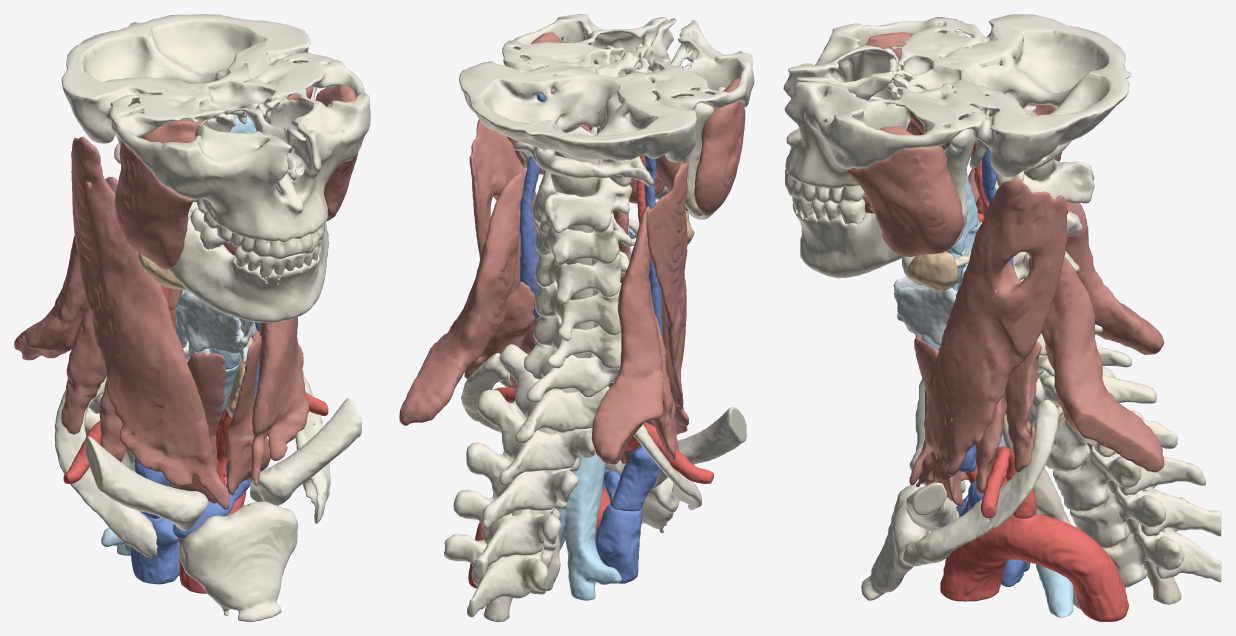
The model's file is headneck.glb.
3 renders of one model, left to right at view 1: azimuth 30°, elevation 25°; view 2: azimuth 150°, elevation 25°; view 3: azimuth 270°, elevation 25°, orthographic. The views are drawn at different scales.
Visible parts, largest first — view 1: skull, sternocleidomastoid_right, sternum, mandible, sternocleidomastoid_left, masseter_right, clavicula_right, clavicula_left, rib_right_1, levator_scapulae_right, middle_scalene_right, thyroid_cartilage (+16 smaller); view 2: skull, levator_scapulae_left, levator_scapulae_right, sternocleidomastoid_right, trachea, vertebrae_T2, vertebrae_T3, vertebrae_T4, masseter_right, vertebrae_T5, vertebrae_T1, sternocleidomastoid_left (+22 smaller); view 3: skull, sternocleidomastoid_left, aorta, levator_scapulae_left, masseter_left, mandible, rib_left_1, vertebrae_T4, vertebrae_T3, vertebrae_T5, levator_scapulae_right, sternum (+21 smaller).
Boxes of the visible parts, left/top/right/bottom form: skull: left=61, top=14, right=370, bottom=242; sternocleidomastoid_right: left=71, top=136, right=229, bottom=509; sternum: left=178, top=501, right=298, bottom=621; mandible: left=111, top=62, right=330, bottom=322; sternocleidomastoid_left: left=251, top=317, right=309, bottom=485; masseter_right: left=114, top=137, right=193, bottom=269; clavicula_right: left=85, top=436, right=208, bottom=530; clavicula_left: left=250, top=398, right=361, bottom=505; rib_right_1: left=54, top=376, right=157, bottom=558; levator_scapulae_right: left=14, top=176, right=118, bottom=360; middle_scalene_right: left=61, top=305, right=106, bottom=434; thyroid_cartilage: left=175, top=291, right=256, bottom=353; skull: left=459, top=14, right=754, bottom=162; levator_scapulae_left: left=399, top=172, right=523, bottom=425; levator_scapulae_right: left=591, top=206, right=664, bottom=464; sternocleidomastoid_right: left=646, top=162, right=688, bottom=434; trachea: left=555, top=451, right=621, bottom=600; vertebrae_T2: left=477, top=389, right=595, bottom=486; vertebrae_T3: left=466, top=442, right=578, bottom=528; vertebrae_T4: left=453, top=489, right=561, bottom=580; masseter_right: left=694, top=78, right=745, bottom=215; vertebrae_T5: left=444, top=534, right=552, bottom=617; vertebrae_T1: left=499, top=344, right=609, bottom=443; sternocleidomastoid_left: left=469, top=119, right=536, bottom=293; skull: left=783, top=14, right=1131, bottom=188; sternocleidomastoid_left: left=916, top=178, right=1068, bottom=487; aorta: left=940, top=513, right=1128, bottom=621; levator_scapulae_left: left=1028, top=256, right=1164, bottom=472; masseter_left: left=848, top=126, right=963, bottom=256; mandible: left=792, top=30, right=976, bottom=278; rib_left_1: left=902, top=400, right=1058, bottom=566; vertebrae_T4: left=1070, top=485, right=1221, bottom=548; vertebrae_T3: left=1053, top=410, right=1205, bottom=511; vertebrae_T5: left=1102, top=497, right=1221, bottom=587; levator_scapulae_right: left=1065, top=202, right=1164, bottom=354; sternum: left=861, top=485, right=928, bottom=600.
Size of the model in its own units: 0.1473 by 0.2779 by 0.2131.
